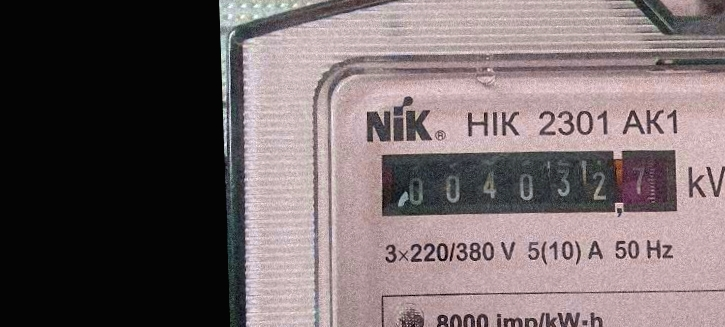0: (441, 171, 462, 205), (405, 172, 425, 206), (515, 169, 535, 202)
2: (589, 167, 608, 202)
3: (553, 165, 572, 198)
4: (478, 167, 499, 203)
7: (630, 163, 648, 196)
screen: (369, 136, 686, 233)
